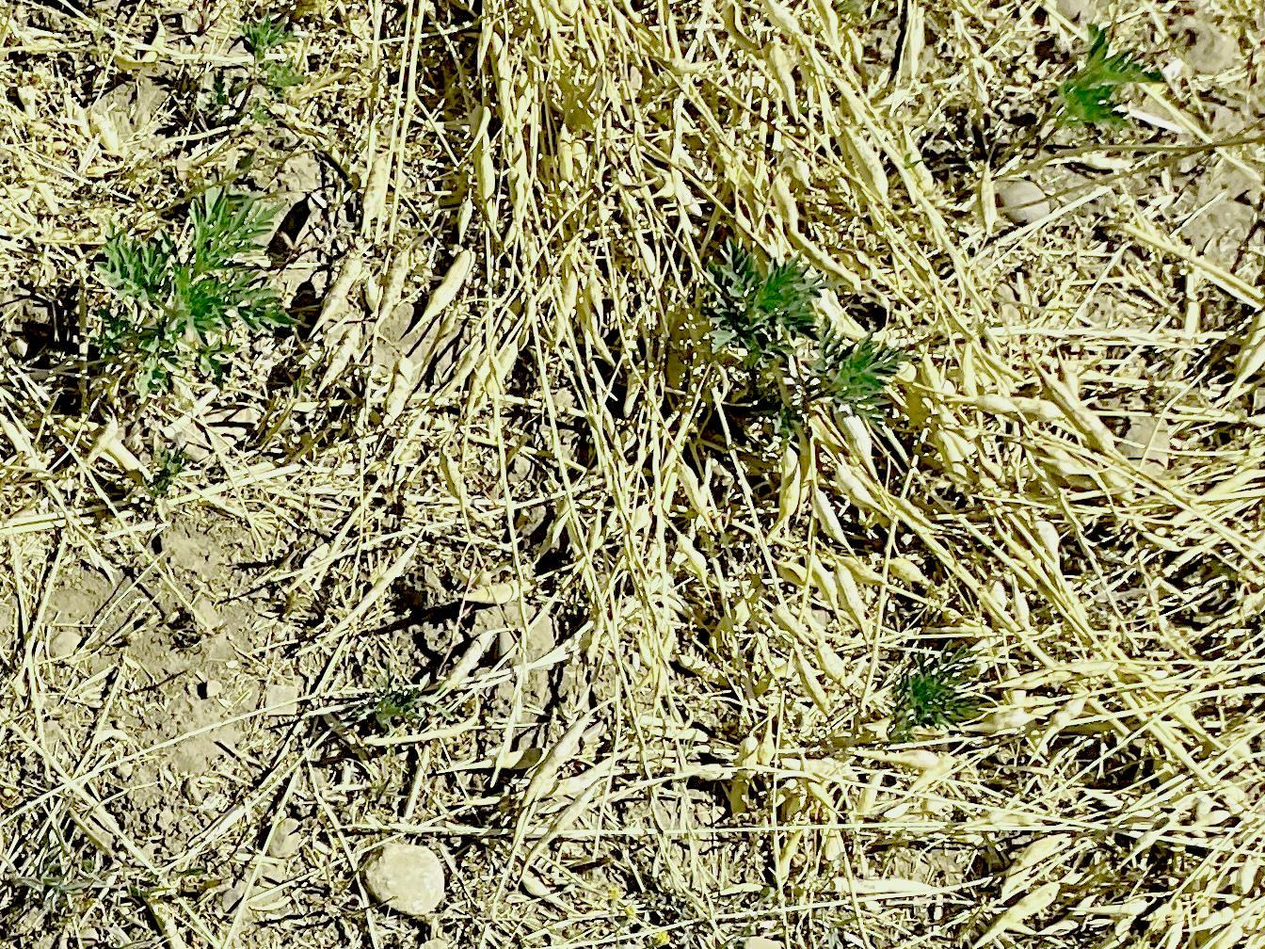AMBEL: (89, 178, 290, 377), (706, 233, 901, 432), (1049, 7, 1151, 133), (884, 642, 987, 741), (237, 13, 313, 97)
